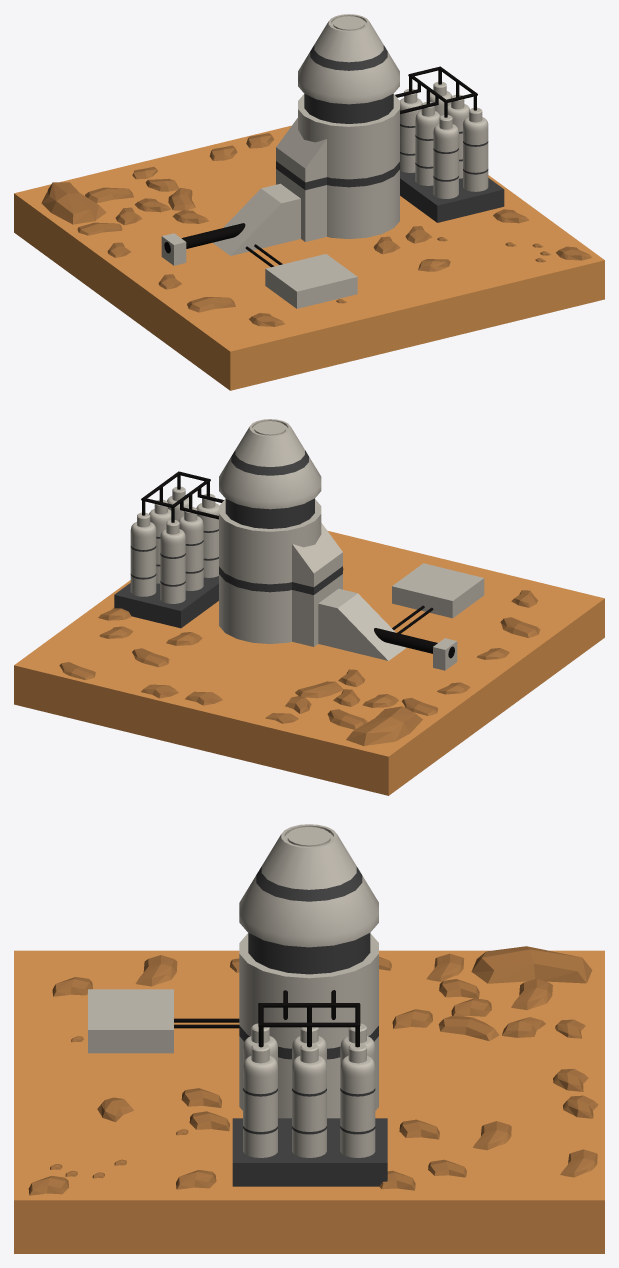
Rendered from 00 Space_15.FBX.
3 renders of one model, top to bottom at view 1: azimuth 30°, elevation 25°; view 2: azimuth 150°, elevation 25°; view 3: azimuth 270°, elevation 25°, orthographic. The views are drawn at different scales.
Parts seen in each view (by area): view 1: Box001, Cylinder001, Box006, Box005, Stone_lit_029, Stone_lit_014, Stone_lit_030; view 2: Box001, Cylinder001, Box006, Box005, Stone_lit_029, Stone_lit_059, Stone_lit_014, Stone_lit_030; view 3: Box001, Cylinder001, Box006, Box005, Stone_lit_029, Stone_lit_059, Stone_lit_014, Stone_lit_030, Stone_lit_041, Stone_lit_033, Stone_lit_038, Stone_lit_057 (+12 smaller).
Boxes of the visible parts, box(x1,y1,x2,y2) form: Box001: box(14, 125, 604, 390); Cylinder001: box(161, 14, 399, 265); Box006: box(395, 66, 504, 222); Box005: box(245, 244, 357, 308); Stone_lit_029: box(41, 182, 106, 224); Stone_lit_014: box(187, 297, 235, 312); Stone_lit_030: box(85, 187, 133, 203); Box001: box(14, 530, 604, 795); Cylinder001: box(219, 419, 457, 670); Box006: box(114, 471, 223, 628); Box005: box(392, 563, 484, 633); Stone_lit_029: box(346, 706, 422, 745); Stone_lit_059: box(295, 681, 343, 698); Stone_lit_014: box(500, 617, 540, 637); Stone_lit_030: box(327, 709, 367, 729); Box001: box(14, 950, 604, 1253); Cylinder001: box(239, 824, 378, 1118); Box006: box(232, 990, 387, 1186); Box005: box(88, 989, 239, 1053); Stone_lit_029: box(471, 946, 592, 983); Stone_lit_059: box(438, 1016, 499, 1041); Stone_lit_014: box(135, 955, 177, 986); Stone_lit_030: box(511, 978, 552, 1010); Stone_lit_041: box(473, 1121, 511, 1150); Stone_lit_033: box(426, 953, 464, 981); Stone_lit_038: box(560, 1149, 597, 1177); Stone_lit_057: box(502, 1017, 545, 1037).
Size of the model in its own units: 100 by 59.57 by 100.
